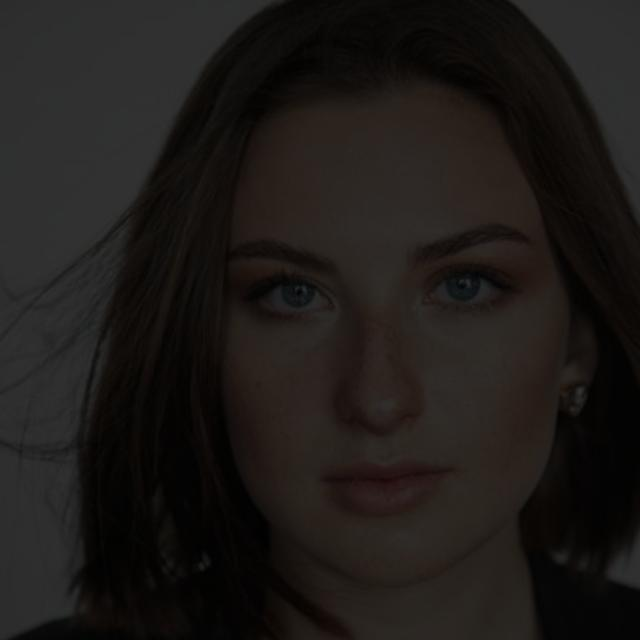Natural: (99, 69, 581, 577)
